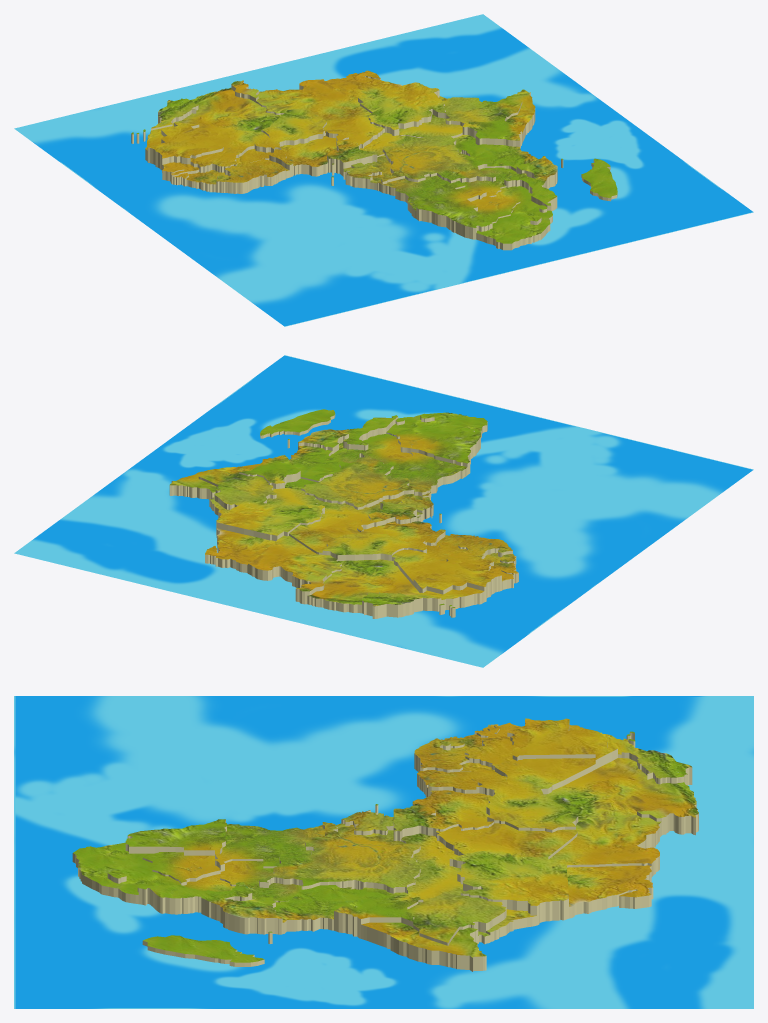
File: MapOfAfrica.fbx
3 renders of one model, top to bottom at view 1: azimuth 30°, elevation 25°; view 2: azimuth 150°, elevation 25°; view 3: azimuth 270°, elevation 25°, orthographic. The views are drawn at different scales.
Visible parts, largest first — view 1: Ocean, Africa; view 2: Ocean, Africa; view 3: Ocean, Africa.
Boxes of the visible parts, x1,y1,x2,y2 form: Ocean: (14, 14, 753, 326); Africa: (131, 70, 617, 250); Ocean: (14, 355, 753, 667); Africa: (169, 409, 518, 618); Ocean: (14, 696, 753, 1008); Africa: (72, 718, 698, 971).
Bounding box in the file's own units: 574 × 18.01 × 574.
Materials: 2 (2 with a texture image).
